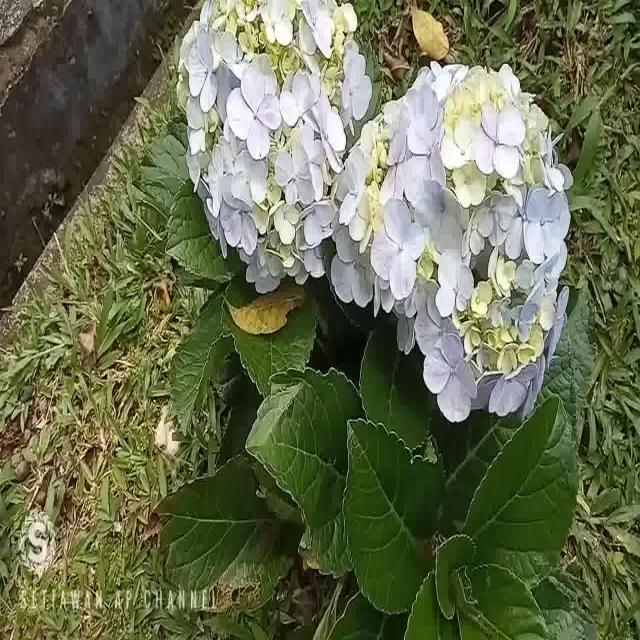Flower: (343, 58, 573, 432), (169, 1, 373, 289)
